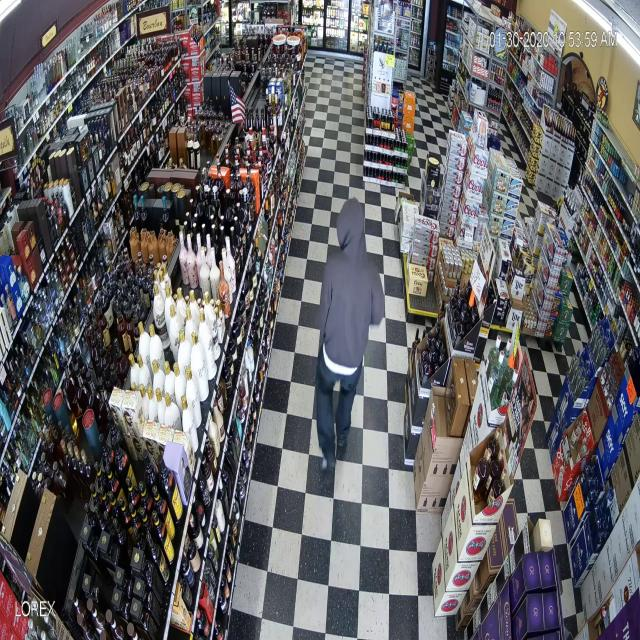normal: (283, 138, 406, 484)
